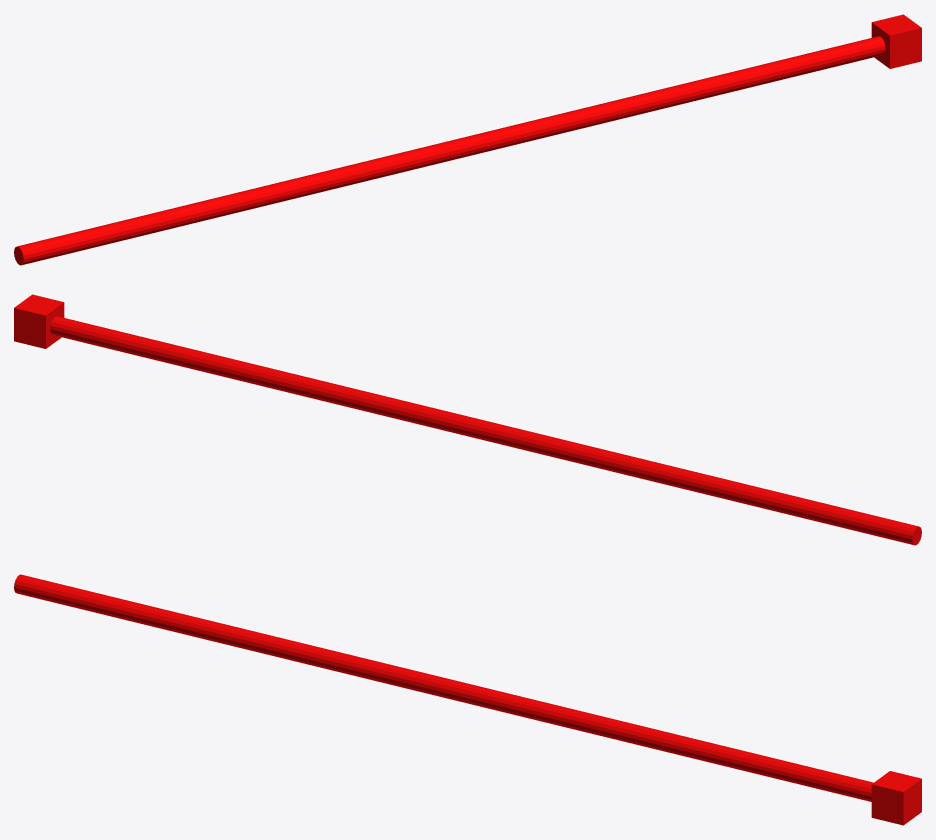
The model's file is Scale_X.glb.
3 renders of one model, top to bottom at view 1: azimuth 30°, elevation 25°; view 2: azimuth 150°, elevation 25°; view 3: azimuth 330°, elevation 25°, orthographic.
Visible parts, largest first — view 1: Scale_X; view 2: Scale_X; view 3: Scale_X.
Part boxes in pixels (left/top/right/bottom): Scale_X: left=14, top=14, right=921, bottom=265; Scale_X: left=14, top=294, right=921, bottom=545; Scale_X: left=14, top=574, right=921, bottom=825.
Bounding box in the file's own units: 0.224 × 0.008 × 0.008.
